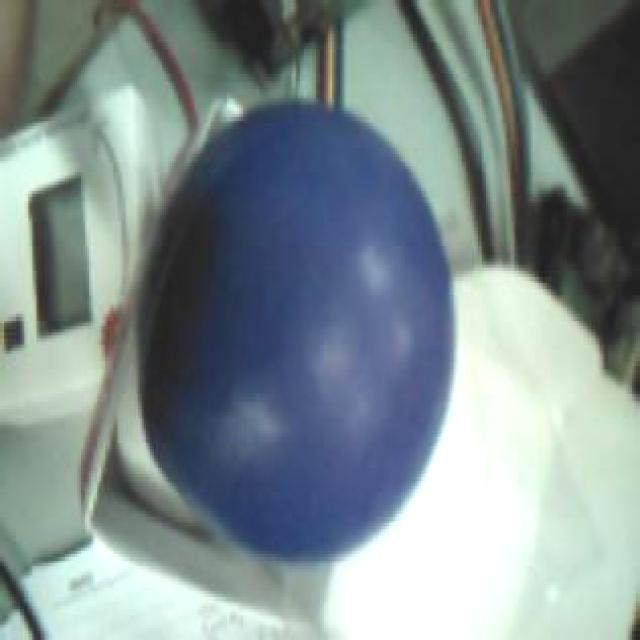BallPurple: (134, 102, 454, 559)
